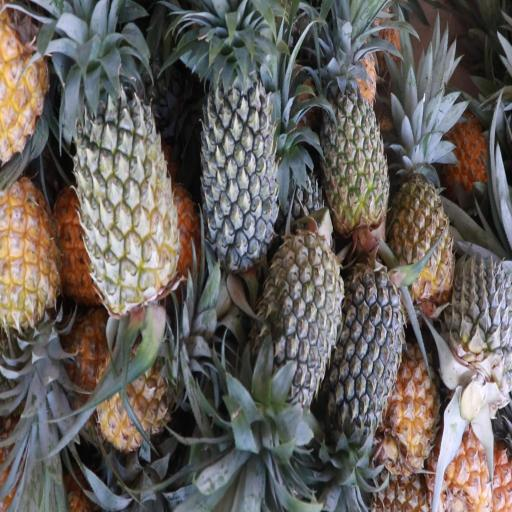------------------------------: (73, 86, 181, 307), (321, 67, 387, 229)
Pineapple - v8 v1: (0, 182, 66, 387), (98, 334, 207, 448), (392, 134, 452, 296), (384, 352, 449, 475)
